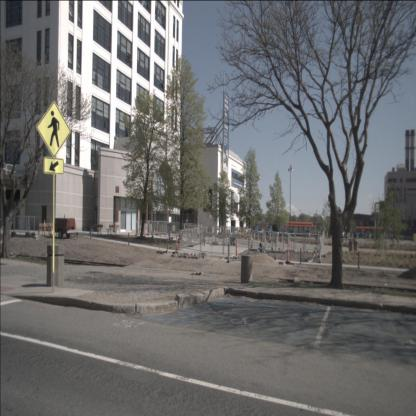movable_object-trafficcone: (286, 240, 291, 262), (235, 236, 239, 257), (175, 234, 179, 254), (43, 218, 47, 237), (50, 219, 54, 236), (153, 227, 156, 236), (144, 228, 146, 236)
vehicle-car: (242, 226, 252, 234), (256, 227, 265, 235), (250, 227, 258, 234), (304, 229, 311, 237), (264, 228, 272, 235), (339, 230, 346, 238), (289, 229, 295, 237), (366, 231, 372, 239)
